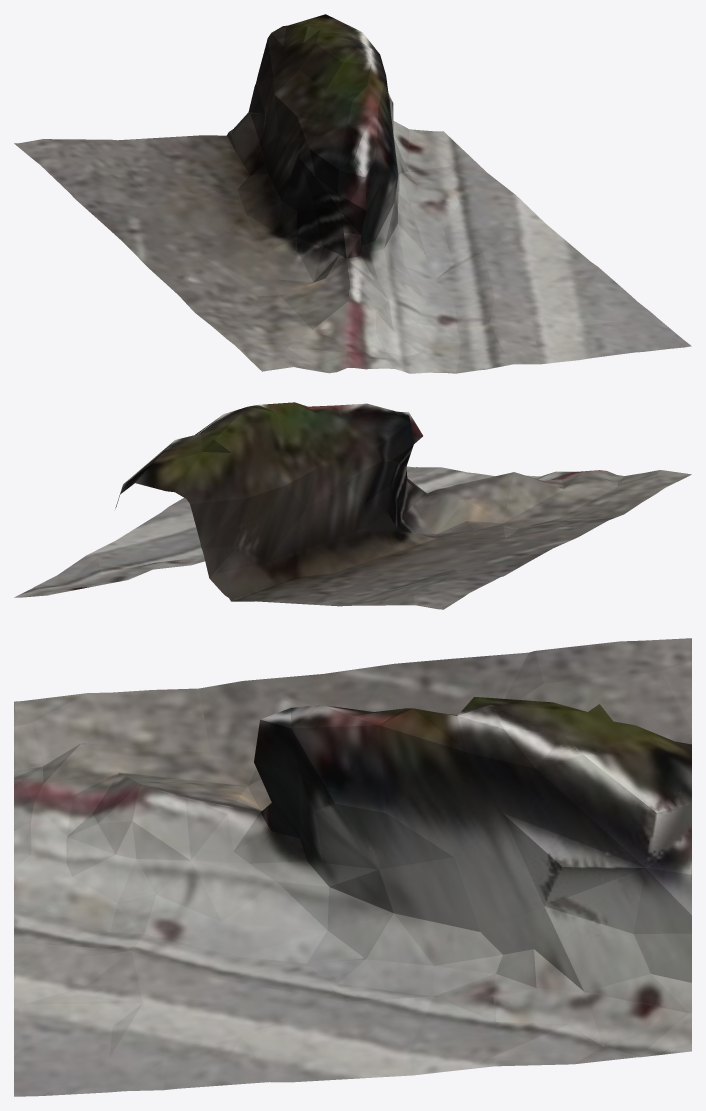
3 renders of one model, top to bottom at view 1: azimuth 30°, elevation 25°; view 2: azimuth 150°, elevation 25°; view 3: azimuth 270°, elevation 25°, orthographic. The views are drawn at different scales.
Bounding box in the file's own units: 1.67 × 0.778 × 1.67.
3 materials, 3 textured.
